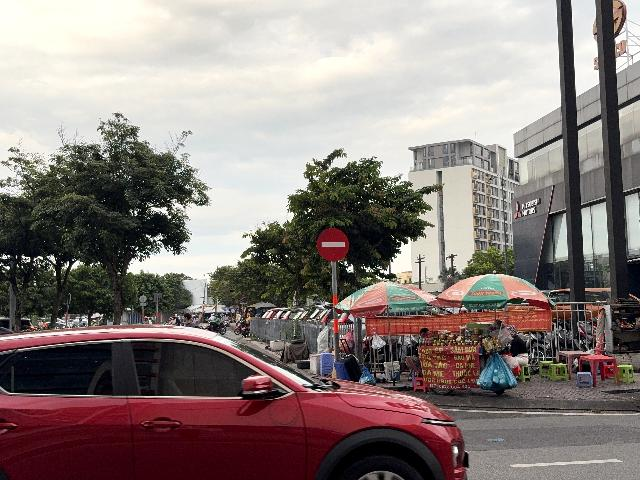cam-di-nguoc-chieu: (317, 228, 349, 261)
